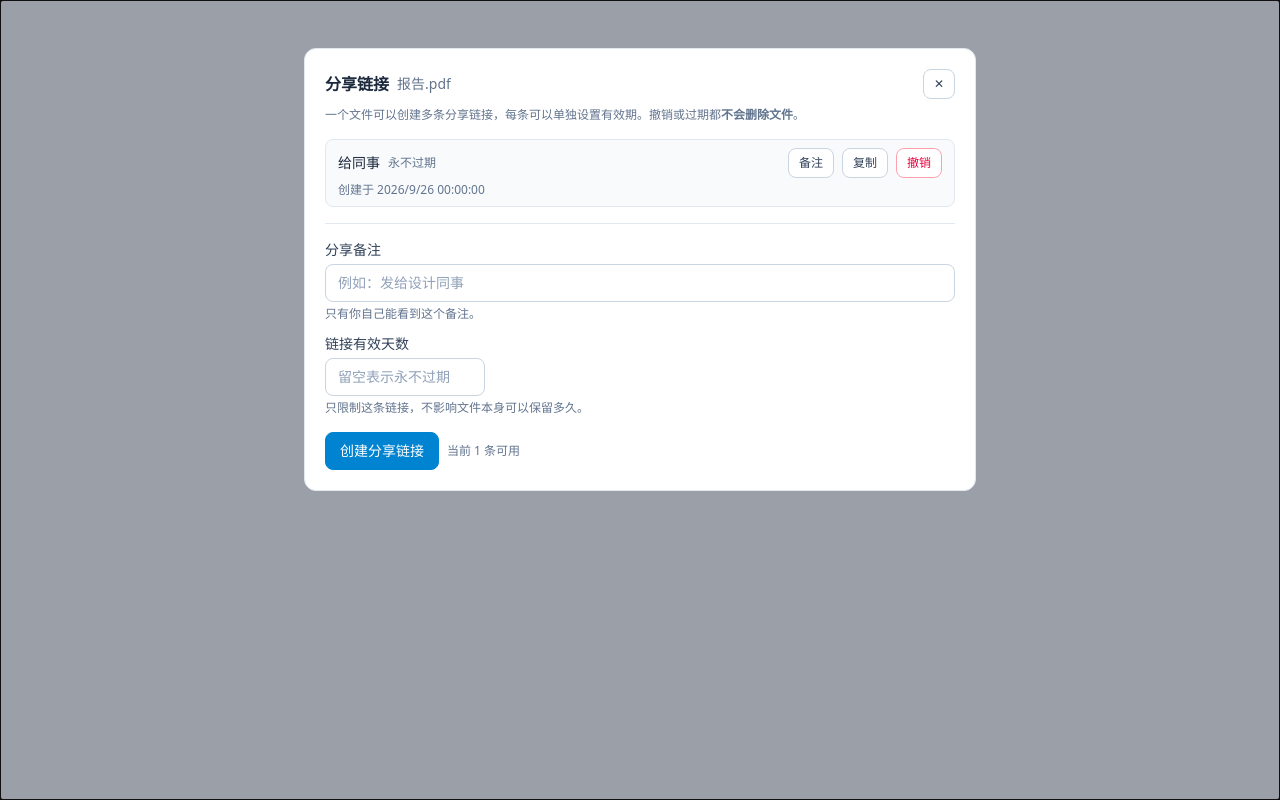
Test: ShareManager › revokes a link without touching the entry
Expected: the button "创建分享链接" is shown, [325,432,439,470]
Click the button "撤销": (919,163) [896,148,942,178]
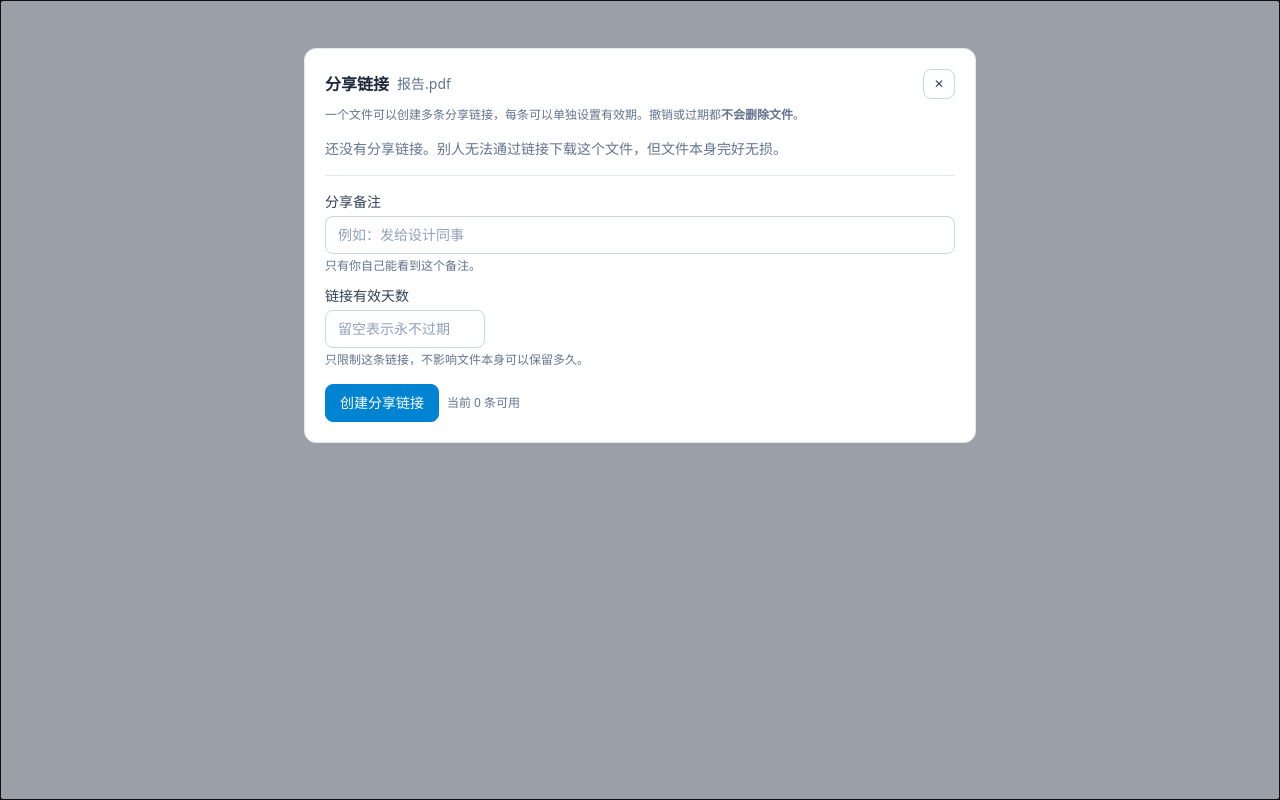
Now the text "还没有分享链接。别人无法通过链接下载这个文件，但文件本身完好无损。" is shown, box [325,139,787,158]
